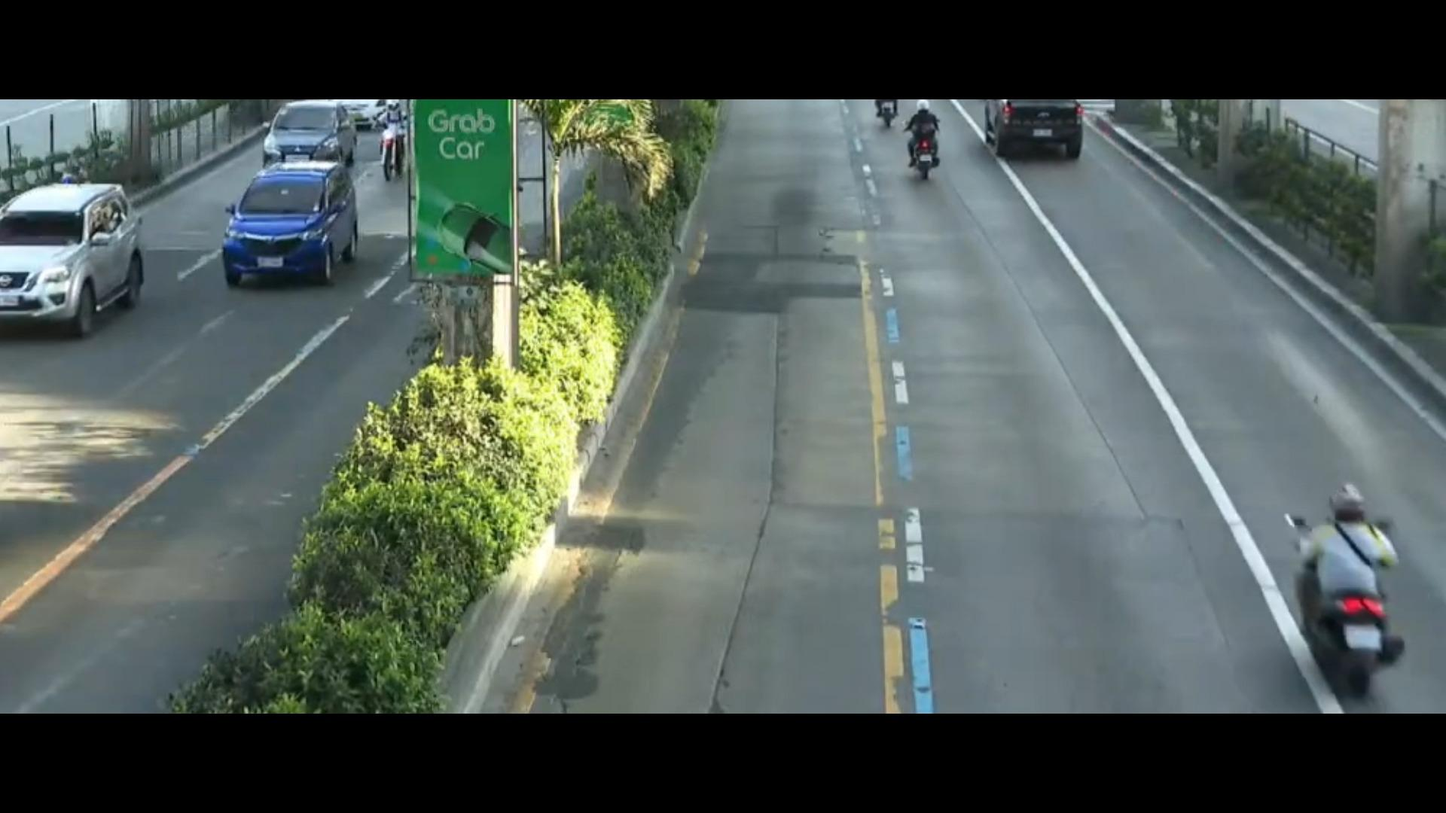Motorcycle: (1268, 465, 1409, 697), (900, 100, 957, 187), (375, 106, 413, 175)
Pickup: (967, 94, 1107, 175)
SUV: (0, 170, 133, 338), (247, 93, 354, 169)
Sedan: (206, 151, 371, 287)
